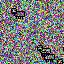sheep: (11, 8, 26, 21)
